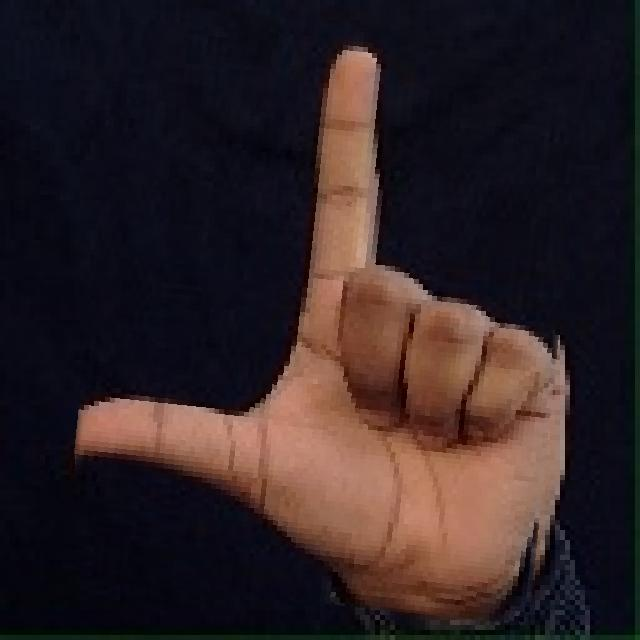L: (76, 12, 575, 614)
